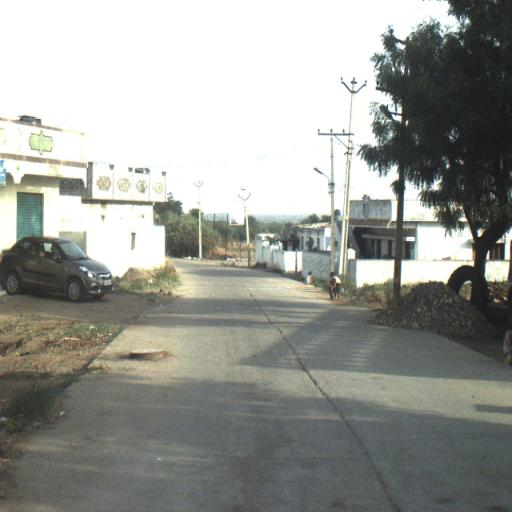street_light_0: (313, 167, 335, 196)
